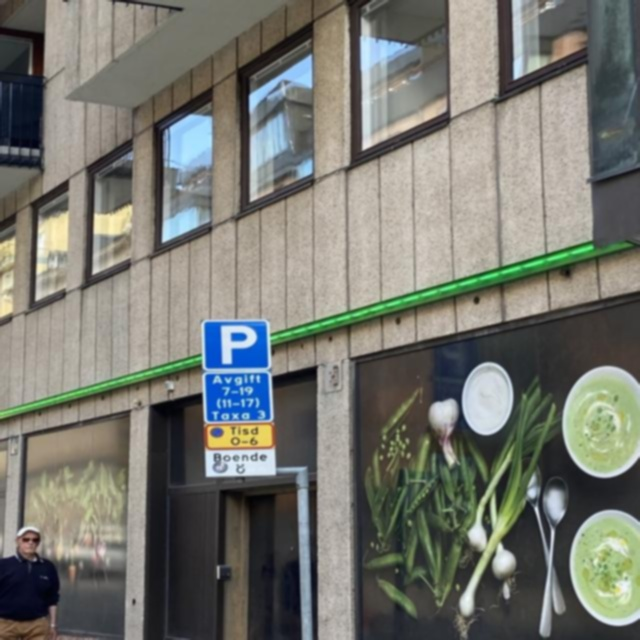P-skylt: (200, 319, 271, 371)
